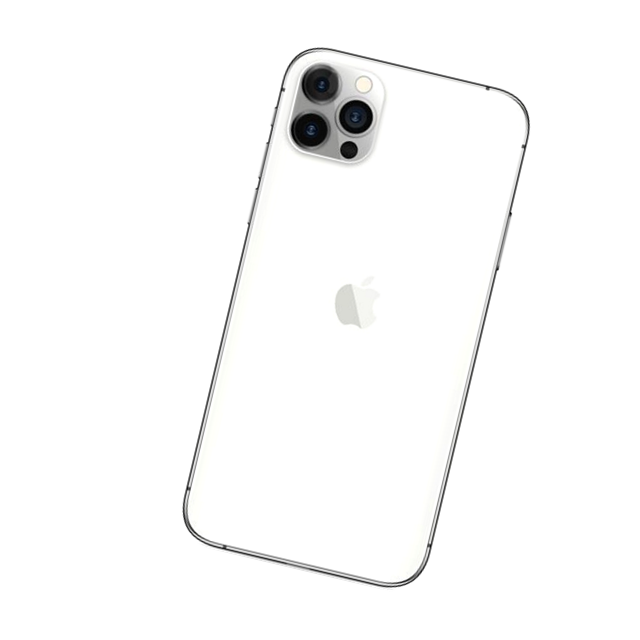iphone_12pro_silver: (196, 24, 529, 590), (272, 49, 394, 177)
